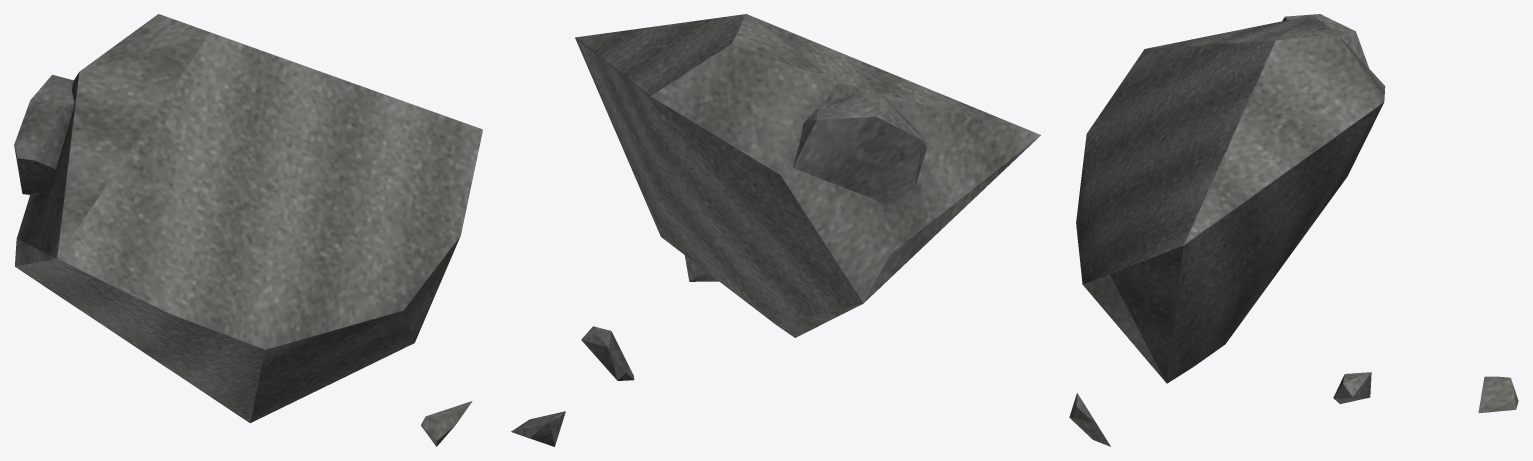
Rendered from boulder_23.glb.
3 views of the same model, side by side, from view 1: azimuth 30°, elevation 25°; view 2: azimuth 150°, elevation 25°; view 3: azimuth 270°, elevation 25° (orthographic). The views are drawn at different scales.
Visible parts, largest first — view 1: boulder_23_c0; view 2: boulder_23_c0; view 3: boulder_23_c0.
Part boxes in pixels (x1,y1,x2,y2): boulder_23_c0: (14,14,482,446); boulder_23_c0: (511,14,1040,446); boulder_23_c0: (1069,14,1518,446).
Size of the model in its own units: 2.81 by 2.24 by 2.66.
Materials: 1 (1 with a texture image).
